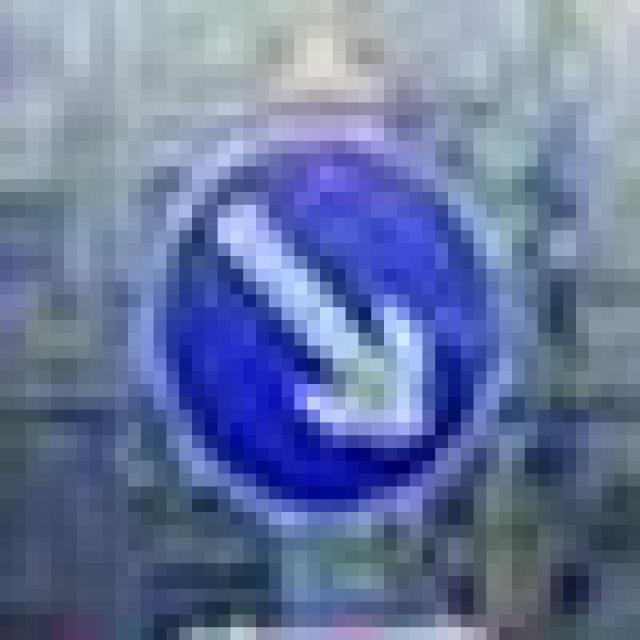R.301e: (13, 0, 640, 627)
